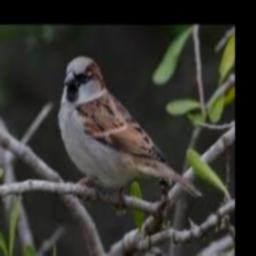Sparrow: (57, 56, 202, 199)
